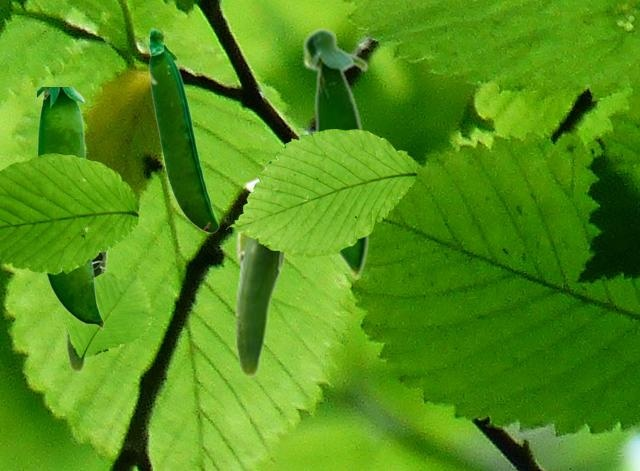pea: (301, 26, 369, 283), (37, 87, 103, 329), (147, 27, 218, 232), (234, 158, 288, 377), (65, 249, 110, 372)
